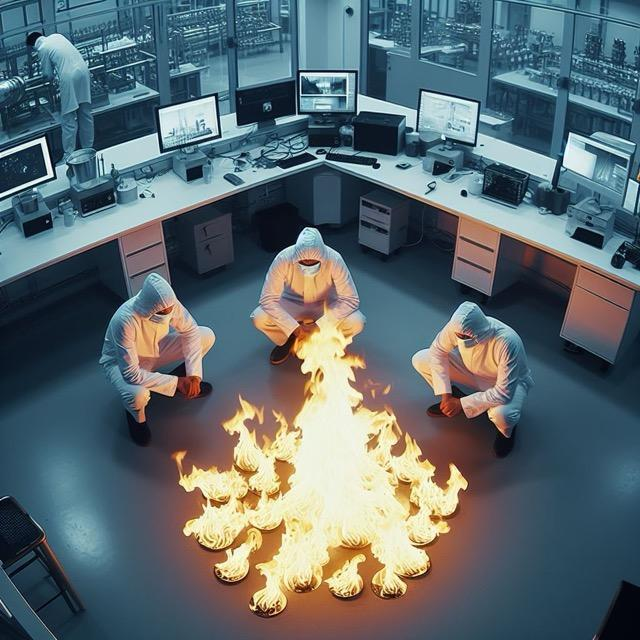smoke: (173, 310, 468, 619)
